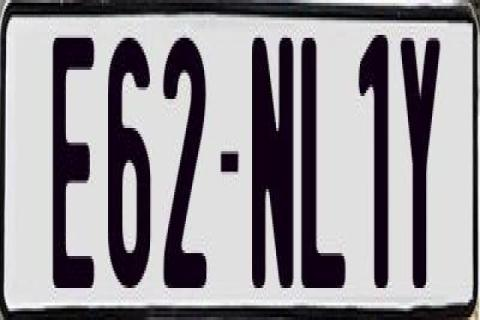0: (162, 38, 210, 291), (106, 35, 148, 294), (358, 32, 390, 288)
E: (54, 29, 98, 282)
L: (298, 32, 348, 282)
N: (250, 32, 292, 300)
Y: (402, 32, 446, 282)
